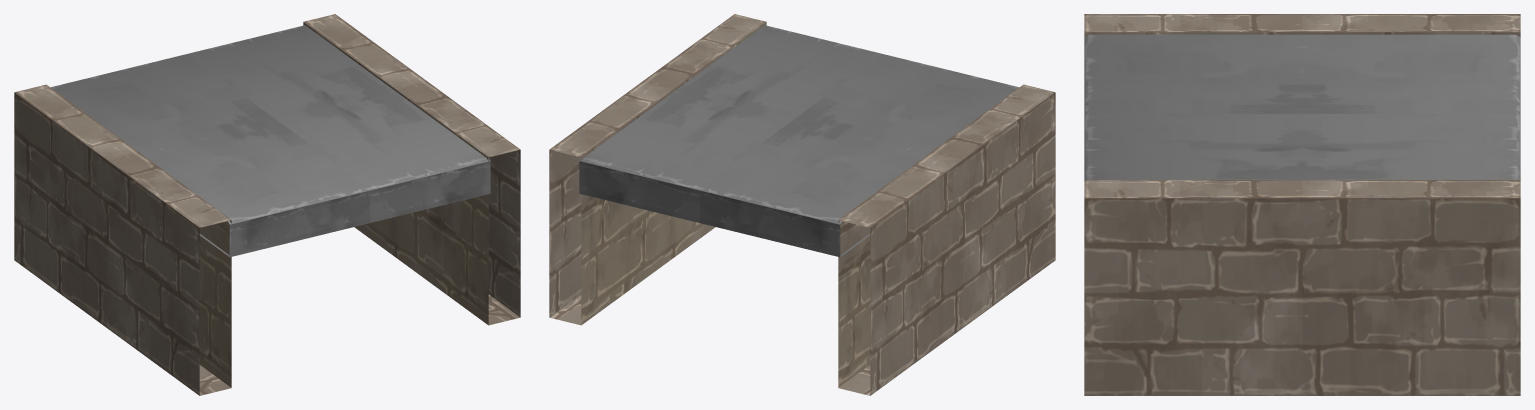
Rendered from Stairs_Exterior_Platform.gltf.
The picture shows the model from 3 angles, left to right: view 1: azimuth 30°, elevation 25°; view 2: azimuth 150°, elevation 25°; view 3: azimuth 270°, elevation 25°; orthographic projection. The views are drawn at different scales.
Parts seen in each view (by area): view 1: Stairs_Exterior_Platform; view 2: Stairs_Exterior_Platform; view 3: Stairs_Exterior_Platform.
Part boxes in pixels (x1,y1,x2,y2): Stairs_Exterior_Platform: (14, 14, 520, 395); Stairs_Exterior_Platform: (549, 14, 1055, 395); Stairs_Exterior_Platform: (1084, 14, 1520, 395).
Size of the model in its own units: 2 by 1 by 2.
2 materials, 2 textured.
